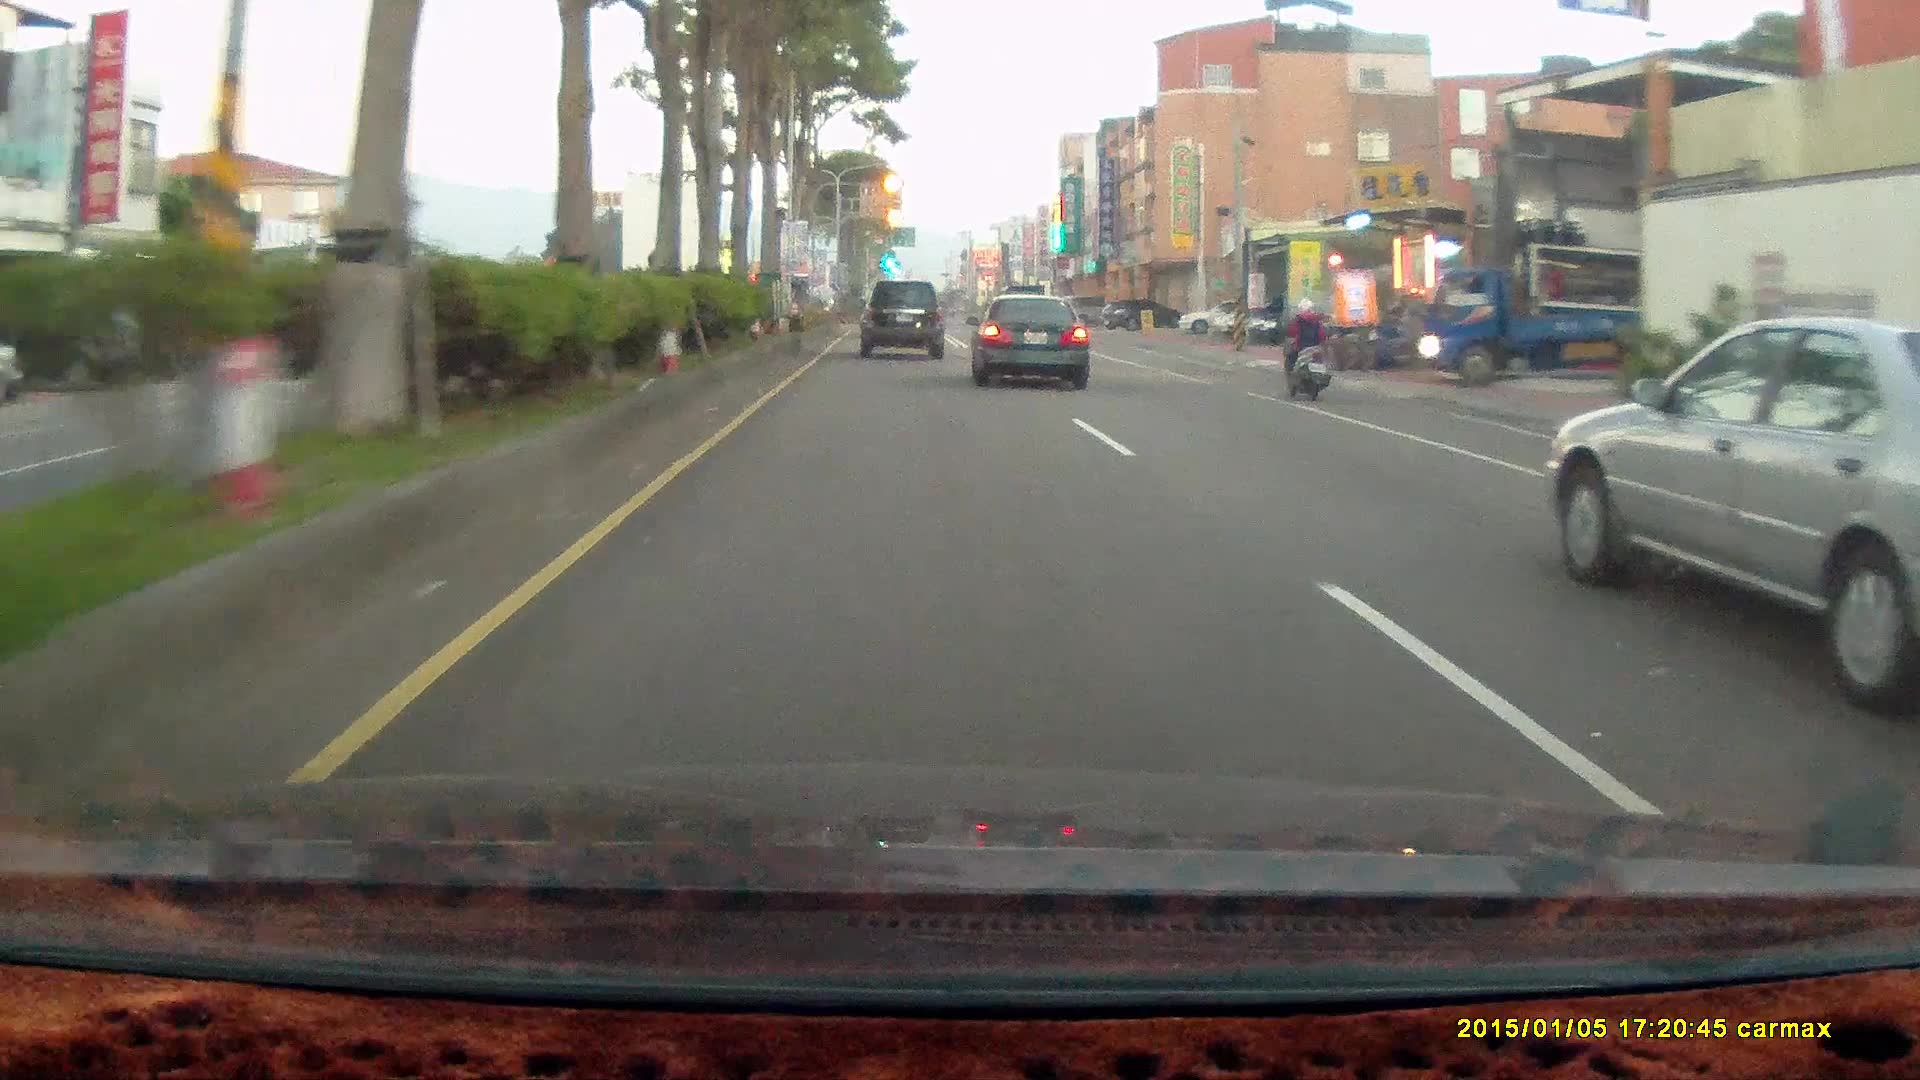rider: (1271, 287, 1345, 411), (1277, 298, 1335, 403)
vehicle: (1547, 314, 1920, 712), (1421, 243, 1646, 387), (1416, 270, 1694, 385), (963, 292, 1089, 389), (975, 296, 1096, 388), (860, 281, 951, 360), (857, 280, 945, 359), (1251, 297, 1343, 346), (1177, 300, 1263, 335), (1102, 297, 1177, 330), (1065, 291, 1125, 325)
